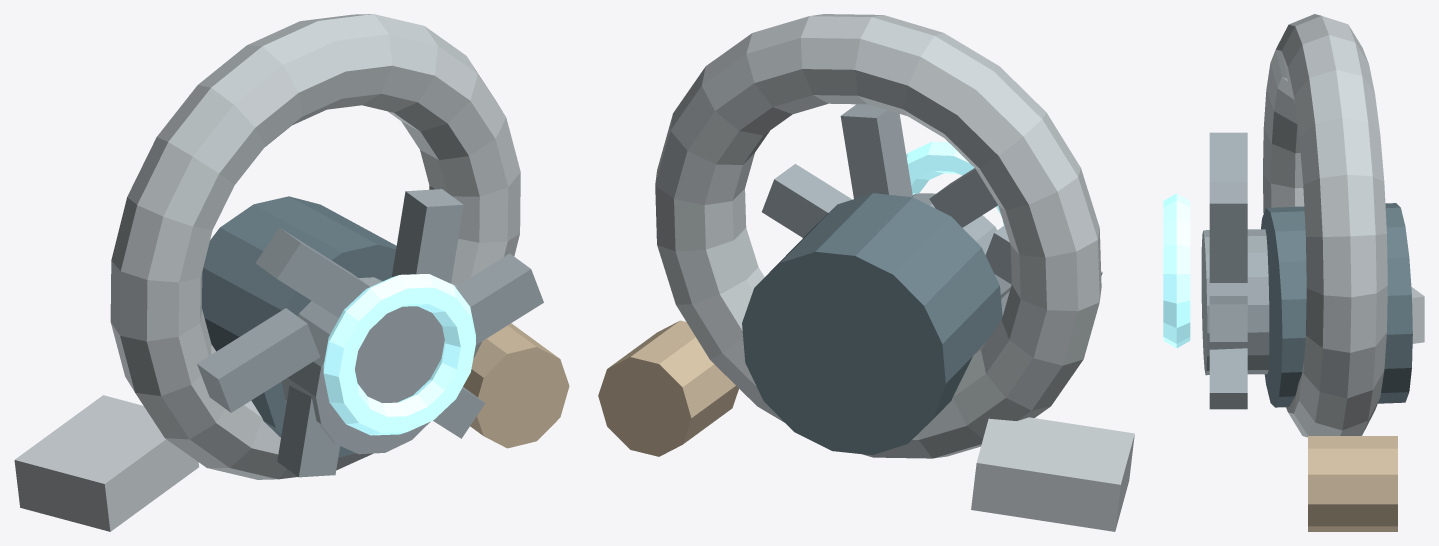
File: scrap_high.gltf
3 views of the same model, side by side, from view 1: azimuth 30°, elevation 25°; view 2: azimuth 150°, elevation 25°; view 3: azimuth 270°, elevation 25° (orthographic). The views are drawn at different scales.
Parts seen in each view (by area): view 1: scrap_high; view 2: scrap_high; view 3: scrap_high.
Boxes of the visible parts, box(x1,y1,x2,y2) form: scrap_high: box(14, 14, 569, 531); scrap_high: box(598, 14, 1134, 531); scrap_high: box(1163, 14, 1424, 531).
Bounding box in the file's own units: 1.53 × 1.3 × 0.7565.
